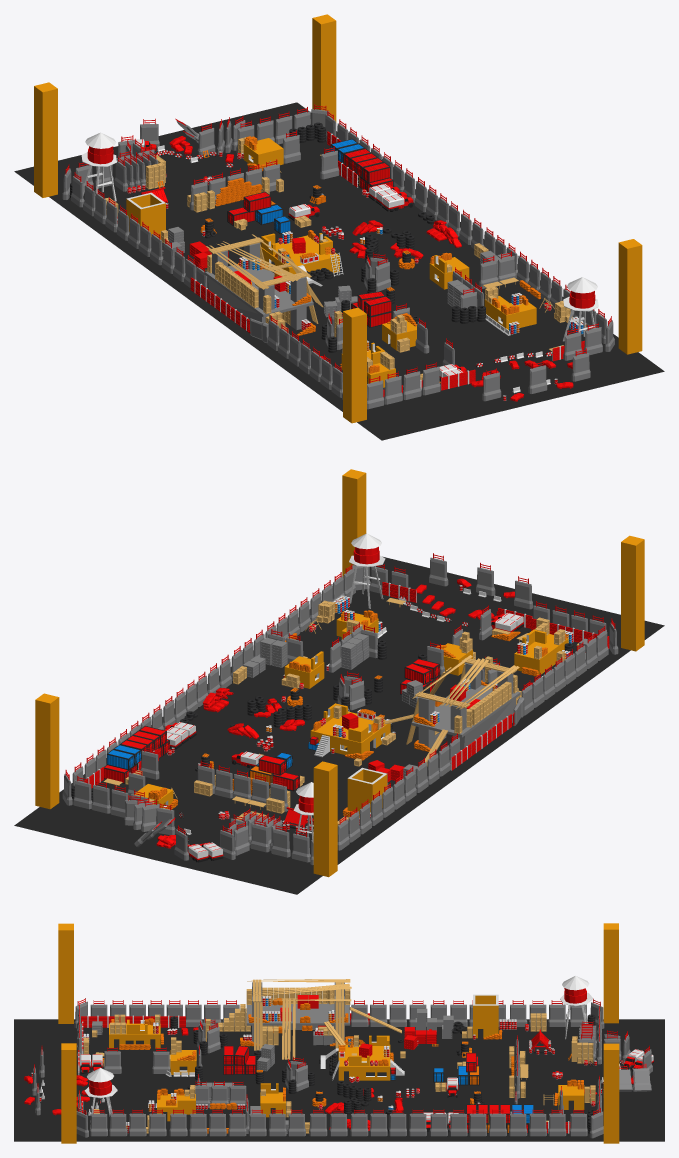
Rendered from junkyard.glb.
The picture shows the model from 3 angles, top to bottom: view 1: azimuth 30°, elevation 25°; view 2: azimuth 150°, elevation 25°; view 3: azimuth 270°, elevation 25°; orthographic projection. The views are drawn at different scales.
Parts seen in each view (by area): view 1: PLANE, Cube.050, Cube.206, Cube.207, Cube.191, Cube.201, tower.001, Room.022, tower.002, Cube.002, Room.024, Room.025 (+2 smaller); view 2: PLANE, Cube.050, Cube.191, Cube.201, Cube.207, Cube.206, Cube.002, Room.022, tower.002, Room.023, barricade.089, tower.001 (+1 smaller); view 3: PLANE, Cube.201, Cube.050, Cube.206, Cube.207, Cube.191, Cube.002, Room.022, tower.001, tower.002, Room.023, Room.024 (+44 smaller).
Part boxes in pixels (x1,y1,x2,y2): PLANE: (14, 102, 664, 440); Cube.050: (204, 243, 313, 330); Cube.206: (618, 239, 642, 354); Cube.207: (343, 307, 366, 423); Cube.191: (34, 82, 57, 197); Cube.201: (312, 14, 336, 122); tower.001: (81, 132, 116, 201); Room.022: (126, 192, 165, 239); tower.002: (563, 277, 598, 341); Cube.002: (261, 235, 339, 274); Room.024: (484, 296, 536, 330); Room.025: (243, 138, 283, 165); PLANE: (14, 556, 664, 894); Cube.050: (411, 663, 520, 750); Cube.191: (313, 761, 337, 877); Cube.201: (35, 693, 59, 809); Cube.207: (621, 535, 644, 651); Cube.206: (342, 469, 366, 577); Cube.002: (310, 711, 390, 754); Room.022: (347, 767, 387, 815); tower.002: (349, 533, 385, 608); Room.023: (514, 634, 568, 674); barricade.089: (337, 671, 365, 710); tower.001: (293, 782, 313, 839); PLANE: (14, 1019, 664, 1141); Cube.201: (603, 1043, 619, 1143); Cube.050: (246, 982, 349, 1043); Cube.206: (61, 1043, 76, 1143); Cube.207: (58, 923, 73, 1023); Cube.191: (603, 923, 618, 1023); Cube.002: (338, 1044, 390, 1080); Room.022: (473, 994, 498, 1038); tower.001: (560, 976, 592, 1039); tower.002: (84, 1068, 117, 1128); Room.023: (109, 1023, 160, 1048); Room.024: (157, 1094, 195, 1121).
Bounding box in the file's own units: 116 × 42.06 × 252.
